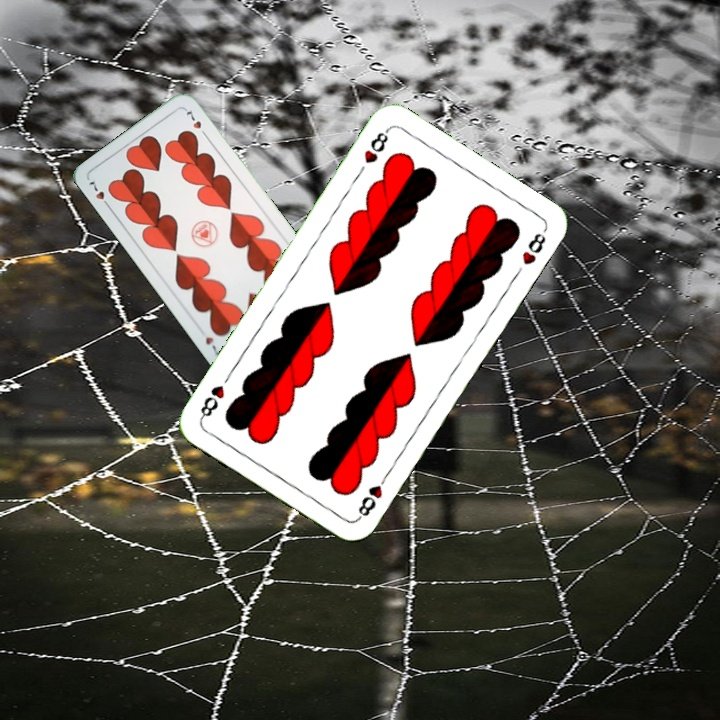H7: (84, 177, 113, 211)
H8: (353, 469, 391, 522), (359, 125, 392, 166)
